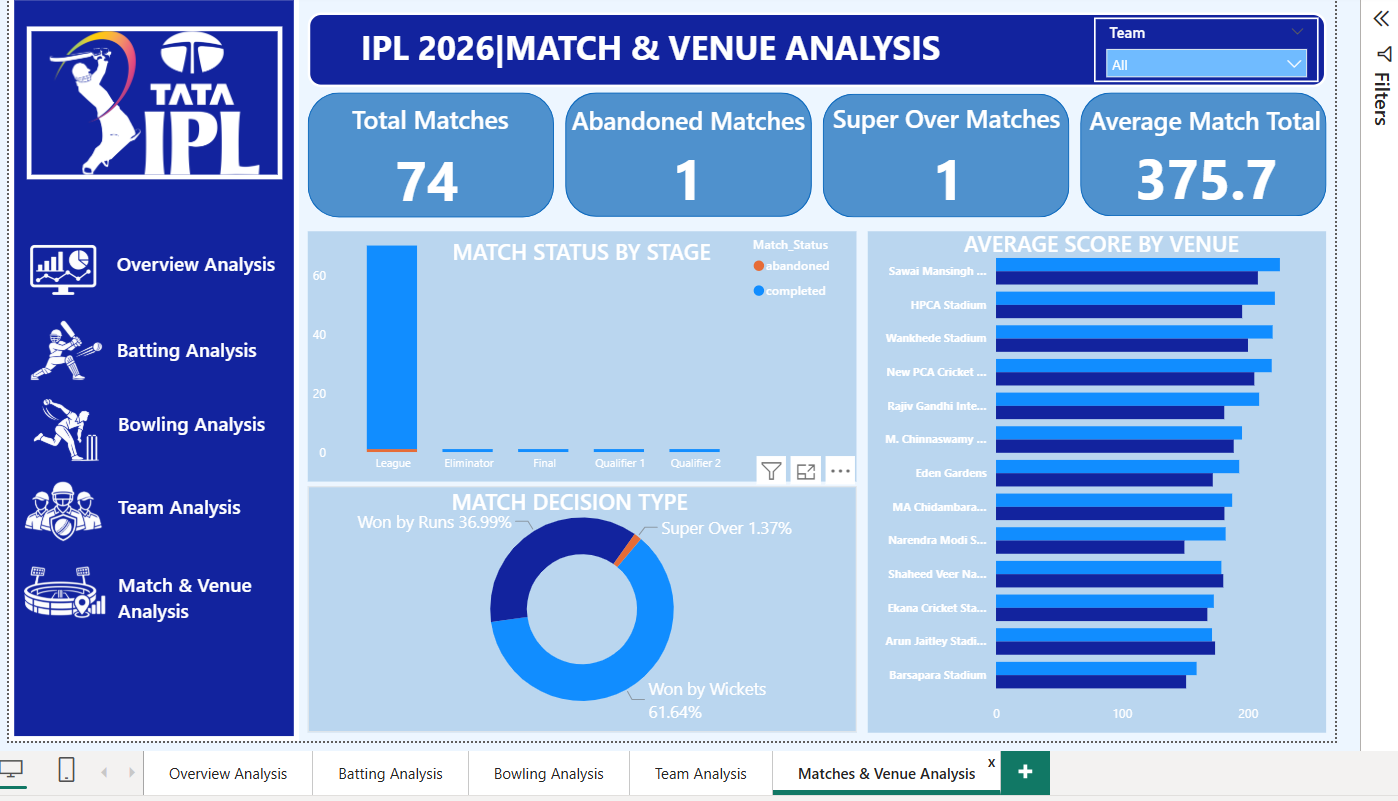

What the dashboard file says about the page in this screenshot:
{"tool":"powerbi","page":{"name":"Matches & Venue Analysis","canvas":[1280,720],"ordinal":4},"visuals":[{"type":"textbox","box":[288.3,16.9,983.2,72.4],"z":0},{"type":"shape","box":[288.3,94.1,237.7,120.6],"z":1000},{"type":"shape","box":[536.6,94.6,238,120],"z":2000},{"type":"shape","box":[785.3,95.8,238,119.4],"z":3000},{"type":"shape","box":[1033.9,94.1,237.7,119.4],"z":4000},{"type":"shape","box":[0,0,279.9,720.2],"z":5000},{"type":"card","fields":{"Values":["Measures_Table.Total_Matches"]},"box":[313.7,135.1,179.8,83.2],"z":6000},{"type":"slicer","fields":{"Values":["dim_team.team_code"]},"box":[1047.2,21.7,217.2,62.7],"z":7000},{"type":"card","fields":{"Values":["Measures_Table.Total_Abandoned"]},"box":[557.4,133.9,195.4,83.2],"z":8000},{"type":"card","fields":{"Values":["Measures_Table.Super_Over_Matches"]},"box":[809.5,133.9,194.2,83.2],"z":9000},{"type":"card","fields":{"Values":["Measures_Table.Average_Match_Total"]},"box":[1047.2,133.9,217.2,80.8],"z":10000},{"type":"textbox","box":[1029.1,100.1,250.9,49.5],"z":11000},{"type":"image","box":[16.9,30.2,247.3,148.4],"z":12000},{"type":"columnChart","fields":{"Category":["matches.stage"],"Y":["Measures_Table.Total_Matches"],"Series":["matches.match_result"]},"box":[288.3,228,529.6,241.3],"z":13000},{"type":"textbox","box":[306.4,98.9,200.3,50.7],"z":14000},{"type":"textbox","box":[530.8,100.1,249.7,49.5],"z":15000},{"type":"textbox","box":[780.6,97.7,248.5,51.9],"z":16000},{"type":"textbox","box":[324.5,228,456,45.8],"z":17000},{"type":"clusteredBarChart","fields":{"Category":["matches.VenueName"],"Y":["Avg(matches.first_ings_score)","Avg(matches.second_ings_score)"]},"box":[828.8,228,442.8,483.8],"z":18000},{"type":"textbox","box":[844.5,219.6,419.8,54.3],"z":19000},{"type":"donutChart","fields":{"Y":["CountNonNull(matches.match_id)"],"Category":["matches.Margin_Type"]},"box":[288.3,474.1,529.6,237.7],"z":20000},{"type":"textbox","box":[340.2,469.3,401.7,39.8],"z":21000},{"type":"image","box":[6,228.5,92.9,72.4],"z":22000},{"type":"image","box":[7.2,306.3,92.9,72.4],"z":23000},{"type":"image","box":[8.4,384.1,92.9,72.4],"z":24000},{"type":"image","box":[6,461.9,92.9,72.4],"z":25000},{"type":"image","box":[6,539.5,92.9,72.4],"z":26000},{"type":"textbox","box":[98.9,241.3,189.4,42.2],"z":27000},{"type":"textbox","box":[98.9,324.5,181,44.6],"z":28000},{"type":"textbox","box":[100.1,395.7,179.8,45.8],"z":29000},{"type":"textbox","box":[100.1,476.5,179.8,48.3],"z":30000},{"type":"textbox","box":[100.1,551.3,190.6,60.3],"z":31000}]}

Visuals, with their boxes on the page's 1280x720 design canvas (x1, y1, x2, y2). These are canvas units, not pixel positions in the 1398x801 screenshot, which may show the page scaled, cropped or inside an application window:
textbox: {"x1": 288, "y1": 17, "x2": 1272, "y2": 89}
shape: {"x1": 288, "y1": 94, "x2": 526, "y2": 215}
shape: {"x1": 537, "y1": 95, "x2": 775, "y2": 215}
shape: {"x1": 785, "y1": 96, "x2": 1023, "y2": 215}
shape: {"x1": 1034, "y1": 94, "x2": 1272, "y2": 214}
shape: {"x1": 0, "y1": 0, "x2": 280, "y2": 720}
card - Measures_Table.Total_Matches: {"x1": 314, "y1": 135, "x2": 494, "y2": 218}
slicer - dim_team.team_code: {"x1": 1047, "y1": 22, "x2": 1264, "y2": 84}
card - Measures_Table.Total_Abandoned: {"x1": 557, "y1": 134, "x2": 753, "y2": 217}
card - Measures_Table.Super_Over_Matches: {"x1": 810, "y1": 134, "x2": 1004, "y2": 217}
card - Measures_Table.Average_Match_Total: {"x1": 1047, "y1": 134, "x2": 1264, "y2": 215}
textbox: {"x1": 1029, "y1": 100, "x2": 1280, "y2": 150}
image: {"x1": 17, "y1": 30, "x2": 264, "y2": 179}
columnChart - matches.stage x Measures_Table.Total_Matches: {"x1": 288, "y1": 228, "x2": 818, "y2": 469}
textbox: {"x1": 306, "y1": 99, "x2": 507, "y2": 150}
textbox: {"x1": 531, "y1": 100, "x2": 780, "y2": 150}
textbox: {"x1": 781, "y1": 98, "x2": 1029, "y2": 150}
textbox: {"x1": 324, "y1": 228, "x2": 780, "y2": 274}
clusteredBarChart - matches.VenueName x Avg(matches.first_ings_score): {"x1": 829, "y1": 228, "x2": 1272, "y2": 712}
textbox: {"x1": 844, "y1": 220, "x2": 1264, "y2": 274}
donutChart - CountNonNull(matches.match_id) x matches.Margin_Type: {"x1": 288, "y1": 474, "x2": 818, "y2": 712}
textbox: {"x1": 340, "y1": 469, "x2": 742, "y2": 509}
image: {"x1": 6, "y1": 228, "x2": 99, "y2": 301}
image: {"x1": 7, "y1": 306, "x2": 100, "y2": 379}
image: {"x1": 8, "y1": 384, "x2": 101, "y2": 456}
image: {"x1": 6, "y1": 462, "x2": 99, "y2": 534}
image: {"x1": 6, "y1": 540, "x2": 99, "y2": 612}
textbox: {"x1": 99, "y1": 241, "x2": 288, "y2": 284}
textbox: {"x1": 99, "y1": 324, "x2": 280, "y2": 369}
textbox: {"x1": 100, "y1": 396, "x2": 280, "y2": 442}
textbox: {"x1": 100, "y1": 476, "x2": 280, "y2": 525}
textbox: {"x1": 100, "y1": 551, "x2": 291, "y2": 612}
